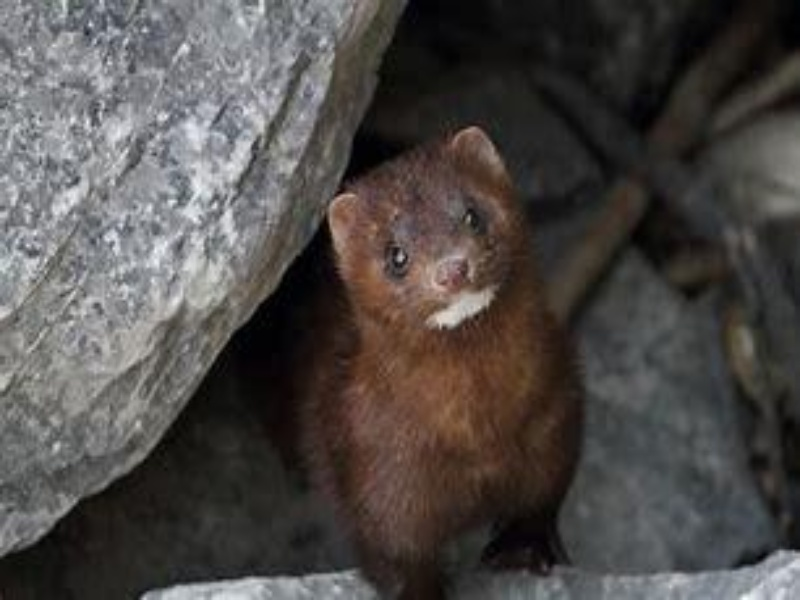minkish: (309, 120, 587, 597)
